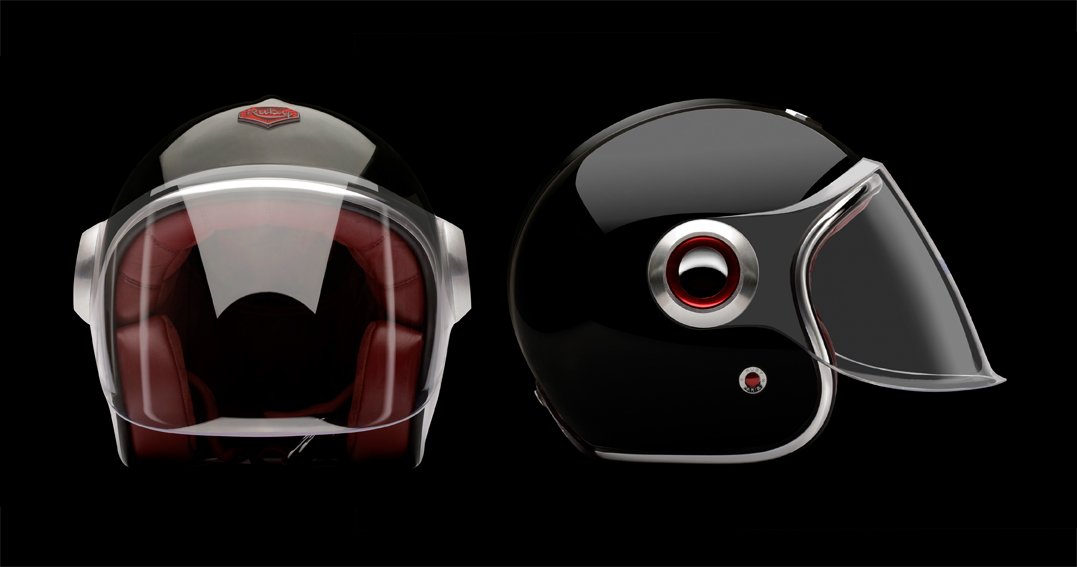with_helmet: (506, 84, 1013, 469), (73, 95, 478, 475)
